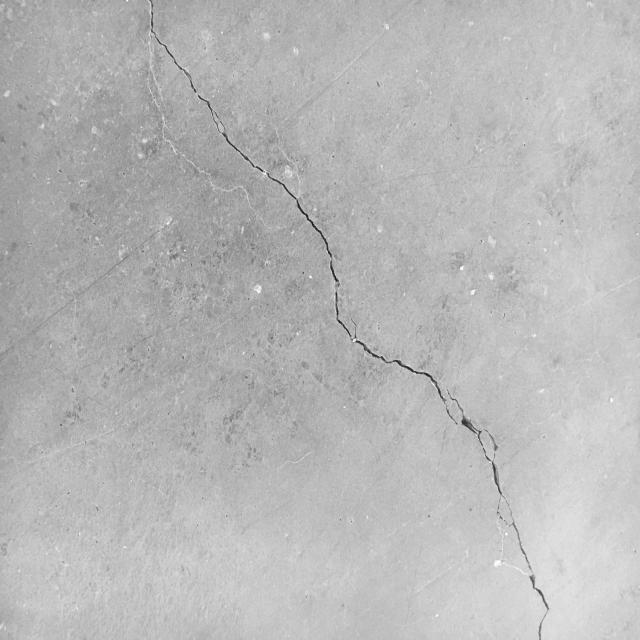SurfaceCrack: (104, 0, 612, 639)
